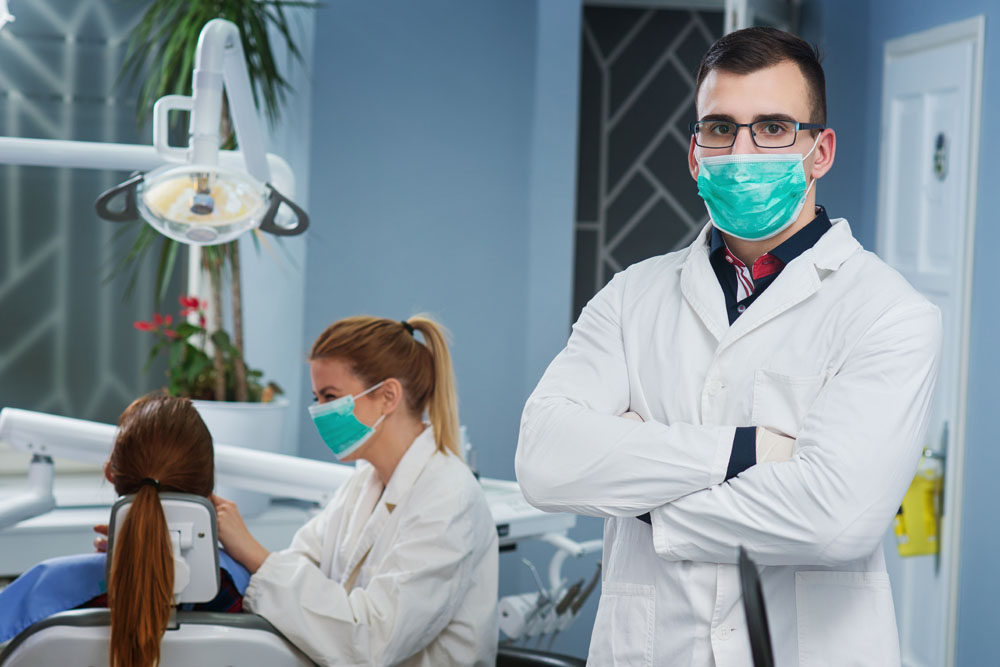face_mask: (697, 70, 814, 238), (310, 357, 375, 467)
